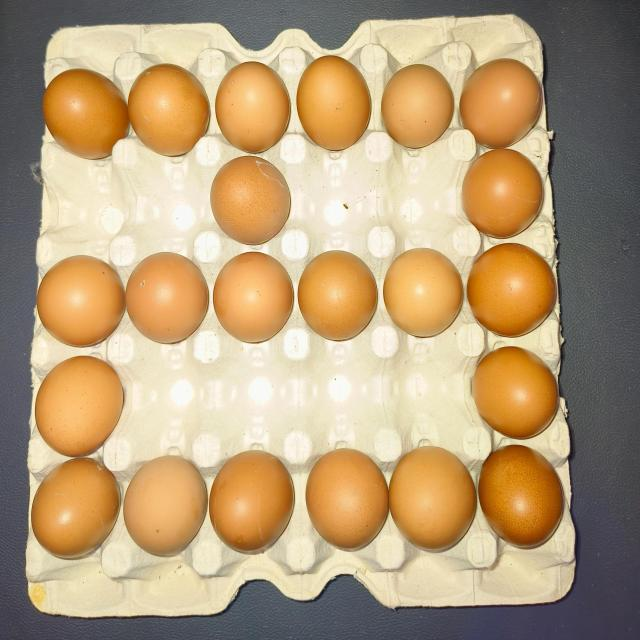Eggs: (32, 351, 126, 461), (118, 456, 212, 563), (300, 445, 389, 556), (38, 236, 116, 348), (475, 336, 554, 444), (385, 453, 474, 548), (205, 149, 293, 239), (462, 149, 542, 246), (206, 464, 292, 554), (385, 239, 461, 340), (212, 246, 292, 341), (480, 451, 559, 543), (34, 462, 112, 554), (47, 70, 125, 160), (301, 240, 370, 340), (300, 56, 371, 152), (131, 256, 209, 342), (133, 61, 205, 154), (472, 254, 552, 336), (216, 68, 292, 151), (383, 60, 448, 145), (470, 64, 539, 132)
